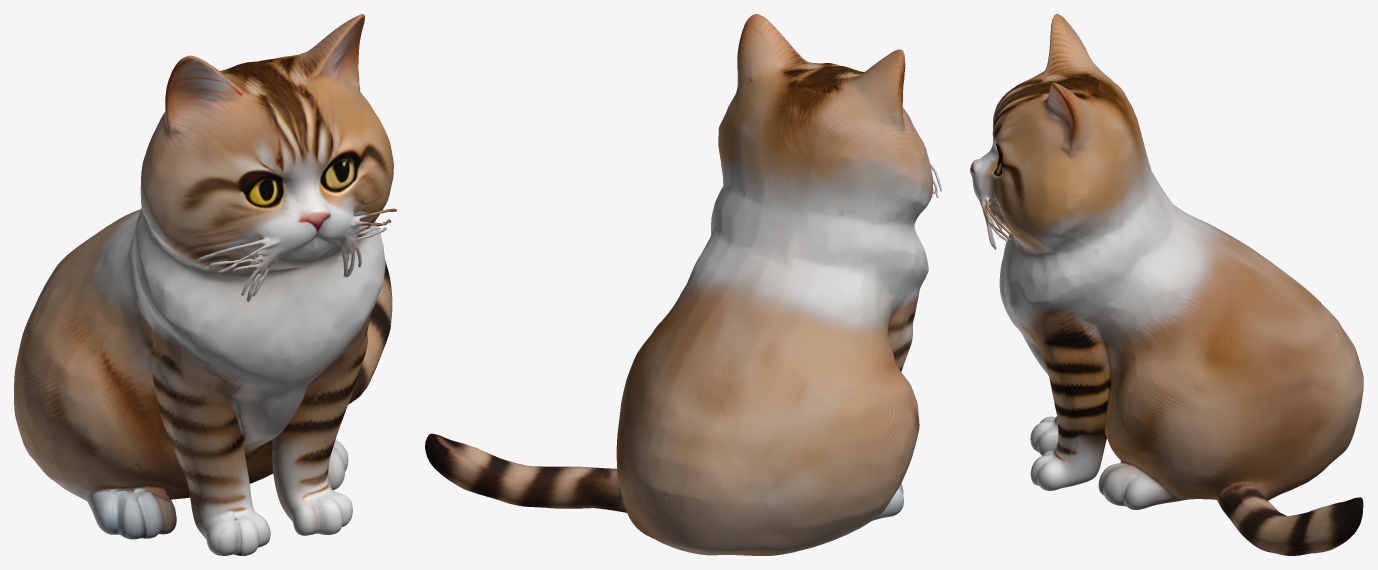
The model's file is cat.fbx.
3 views of the same model, side by side, from view 1: azimuth 30°, elevation 25°; view 2: azimuth 150°, elevation 25°; view 3: azimuth 270°, elevation 25° (orthographic). The views are drawn at different scales.
Parts seen in each view (by area): view 1: texture_v100; view 2: texture_v100; view 3: texture_v100.
Boxes of the visible parts, x1,y1,x2,y2 form: texture_v100: [14, 14, 396, 555]; texture_v100: [425, 14, 941, 555]; texture_v100: [970, 14, 1363, 555].
Bounding box in the file's own units: 78.69 × 83.42 × 70.66.
1 material, 1 textured.
